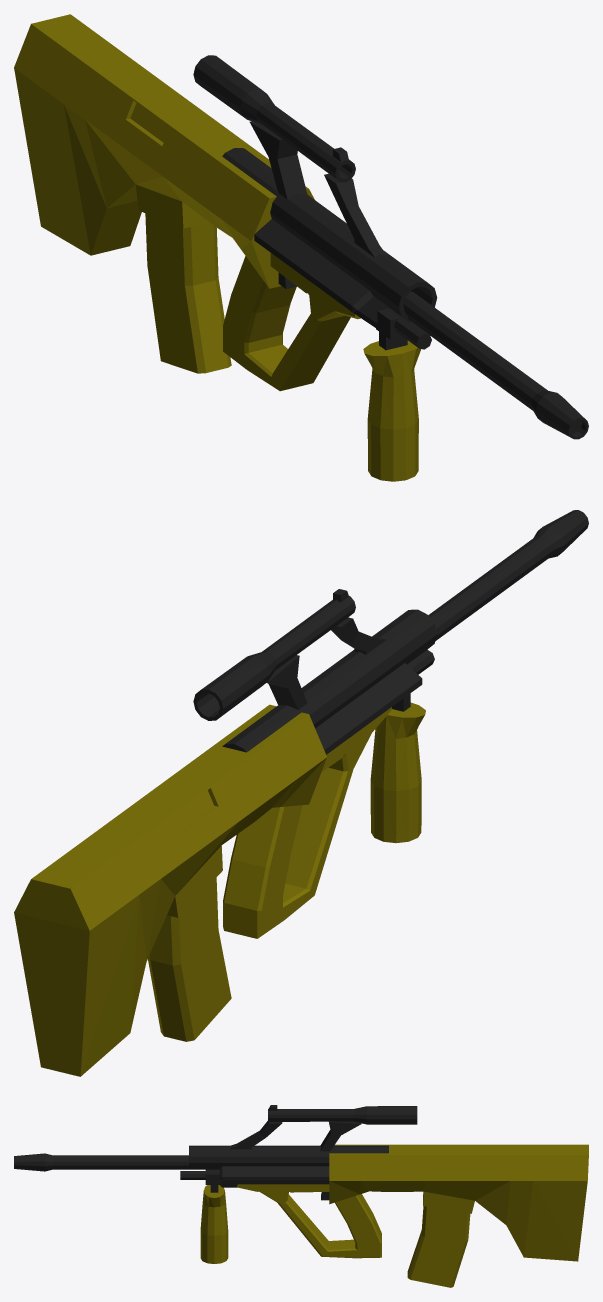
The model's file is Assault Rifle-vdTTlnlWO0.glb.
3 views of the same model, one above another, from view 1: azimuth 30°, elevation 25°; view 2: azimuth 150°, elevation 25°; view 3: azimuth 270°, elevation 25° (orthographic). The views are drawn at different scales.
Visible parts, largest first — view 1: AssaultRIfle_03.001_Cube.001; view 2: AssaultRIfle_03.001_Cube.001; view 3: AssaultRIfle_03.001_Cube.001.
Boxes of the visible parts, left/top/right/bottom form: AssaultRIfle_03.001_Cube.001: left=14, top=14, right=588, bottom=481; AssaultRIfle_03.001_Cube.001: left=14, top=510, right=588, bottom=1076; AssaultRIfle_03.001_Cube.001: left=14, top=1105, right=588, bottom=1287.
Size of the model in its own units: 0.3333 by 1.37 by 4.02.
